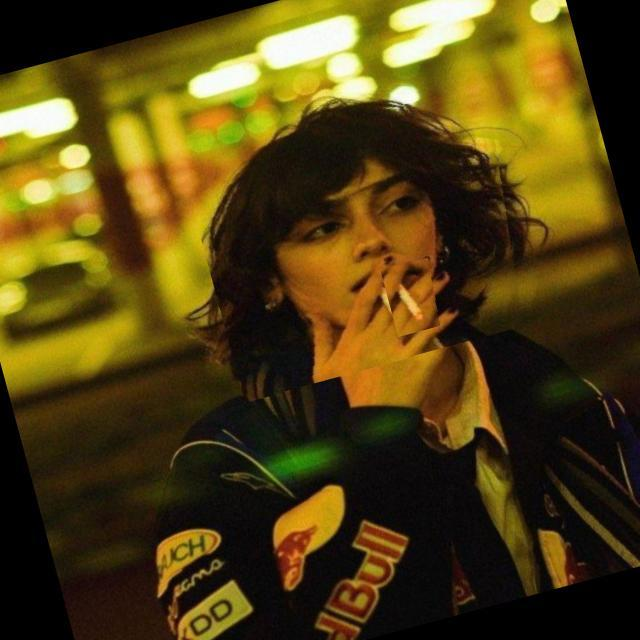cigarette: (380, 256, 445, 336)
